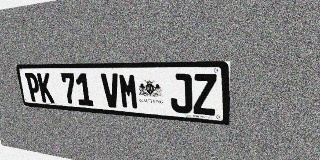1: (74, 73, 94, 106)
7: (60, 73, 79, 105)
J: (169, 74, 193, 114)
K: (37, 73, 55, 103)
M: (118, 73, 139, 110)
P: (25, 73, 42, 102)
V: (101, 73, 121, 108)
Z: (192, 74, 217, 116)
